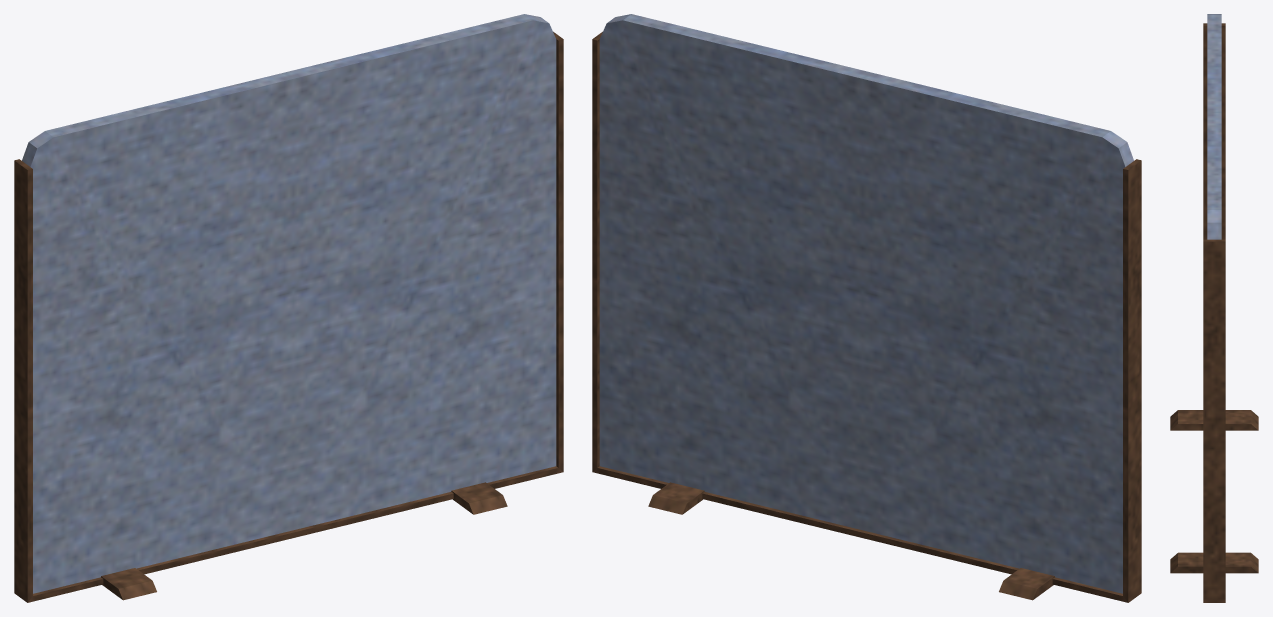
File: divider_wood_blue.obj
3 views of the same model, side by side, from view 1: azimuth 30°, elevation 25°; view 2: azimuth 150°, elevation 25°; view 3: azimuth 270°, elevation 25° (orthographic). The views are drawn at different scales.
Visible parts, largest first — view 1: divider_wood_blue; view 2: divider_wood_blue; view 3: divider_wood_blue.
Part boxes in pixels (x1,y1,x2,y2): divider_wood_blue: (14, 14, 563, 602); divider_wood_blue: (592, 14, 1141, 602); divider_wood_blue: (1170, 14, 1258, 602).
Size of the model in its own units: 3.06 by 2.5 by 0.523.
